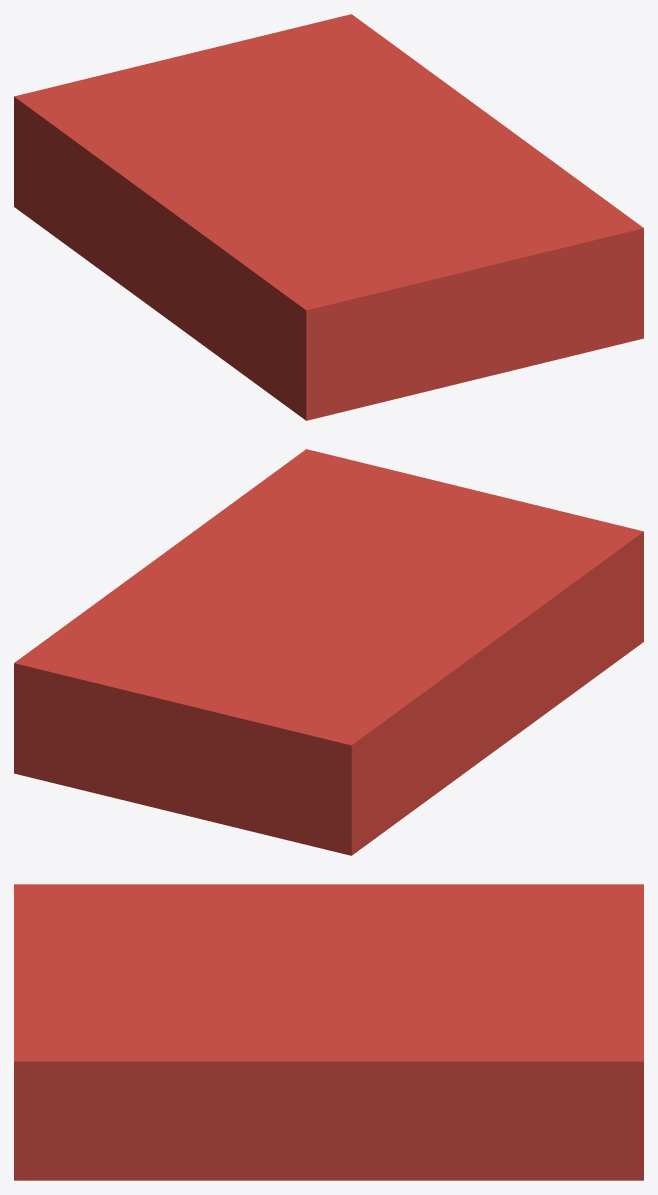
The model's file is sm_product_book.glb.
3 renders of one model, top to bottom at view 1: azimuth 30°, elevation 25°; view 2: azimuth 150°, elevation 25°; view 3: azimuth 270°, elevation 25°, orthographic. The views are drawn at different scales.
Parts seen in each view (by area): view 1: book_0; view 2: book_0; view 3: book_0.
Part boxes in pixels (bbox=[...]): book_0: bbox=[14, 14, 643, 420]; book_0: bbox=[14, 449, 643, 855]; book_0: bbox=[14, 884, 643, 1180].
Size of what is drawn, in the model's own units: 0.16 by 0.05 by 0.24.
